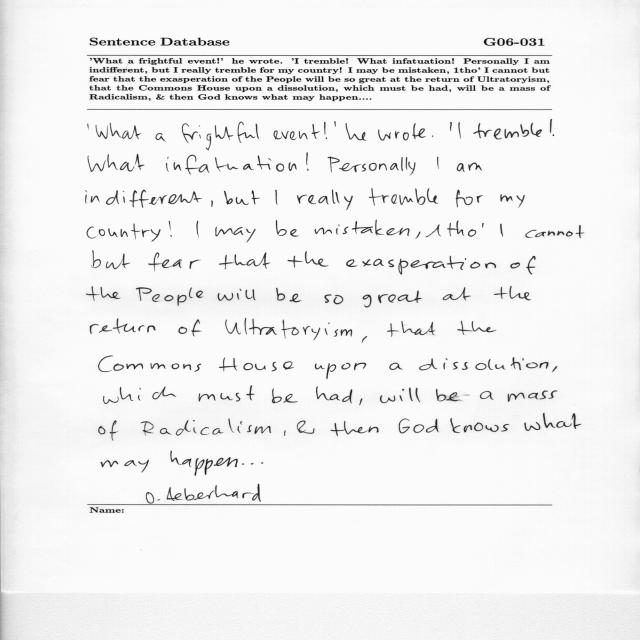word: (346, 256, 496, 275), (225, 318, 352, 340), (166, 155, 297, 175), (141, 418, 271, 436), (182, 122, 259, 150), (86, 190, 202, 208), (420, 357, 549, 370), (328, 157, 416, 176), (99, 356, 201, 372), (315, 220, 409, 236), (87, 224, 161, 242), (136, 287, 203, 306), (104, 387, 177, 404), (473, 123, 542, 140), (369, 189, 438, 206), (297, 190, 353, 210), (170, 451, 213, 476), (90, 318, 156, 334), (88, 154, 145, 172), (525, 413, 582, 431), (148, 253, 201, 272), (363, 291, 422, 308), (426, 221, 484, 238), (219, 358, 294, 371), (199, 386, 255, 402), (450, 418, 509, 433), (378, 123, 426, 141), (219, 252, 269, 269), (315, 363, 366, 379), (388, 321, 436, 337), (526, 225, 585, 238), (96, 123, 142, 139), (274, 124, 320, 140), (330, 421, 379, 436), (92, 251, 130, 270), (288, 251, 329, 268), (215, 227, 256, 243), (101, 460, 149, 473), (398, 419, 439, 434), (316, 387, 352, 404), (380, 388, 420, 403), (508, 390, 557, 402), (494, 286, 531, 301), (224, 190, 260, 205), (458, 321, 496, 335), (87, 286, 121, 301), (218, 288, 256, 301), (456, 190, 483, 207), (511, 256, 536, 274), (436, 389, 470, 402), (178, 320, 202, 337), (214, 457, 254, 467), (276, 220, 299, 237), (99, 421, 118, 441), (346, 123, 367, 141), (276, 288, 302, 302), (443, 288, 471, 301), (272, 389, 298, 403), (500, 194, 525, 208), (457, 163, 482, 173), (297, 421, 314, 434), (325, 295, 343, 305), (480, 391, 494, 400), (389, 363, 403, 370), (155, 133, 166, 141), (550, 119, 554, 136), (306, 153, 309, 171), (324, 122, 327, 139), (458, 122, 461, 139), (169, 221, 172, 237), (275, 190, 278, 205), (500, 224, 503, 237), (416, 232, 421, 239), (362, 336, 367, 343), (197, 221, 199, 238), (552, 366, 557, 372), (437, 157, 439, 169), (360, 399, 363, 406), (450, 122, 452, 131), (211, 200, 213, 207), (334, 121, 336, 127), (284, 430, 286, 436), (88, 124, 89, 130), (262, 462, 264, 464), (432, 135, 433, 137)
